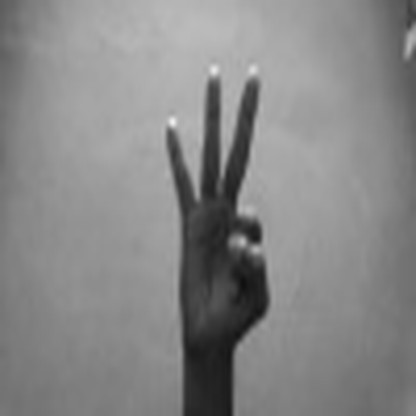f: (150, 53, 286, 345)
